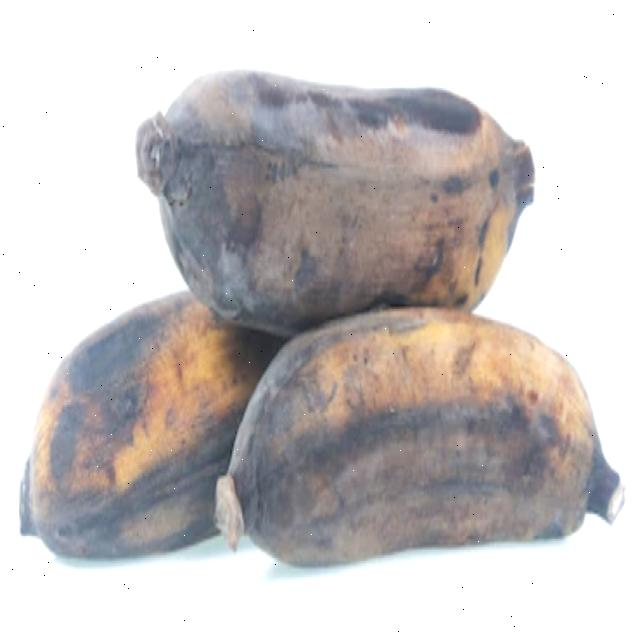rotten banana: (35, 24, 613, 640)
